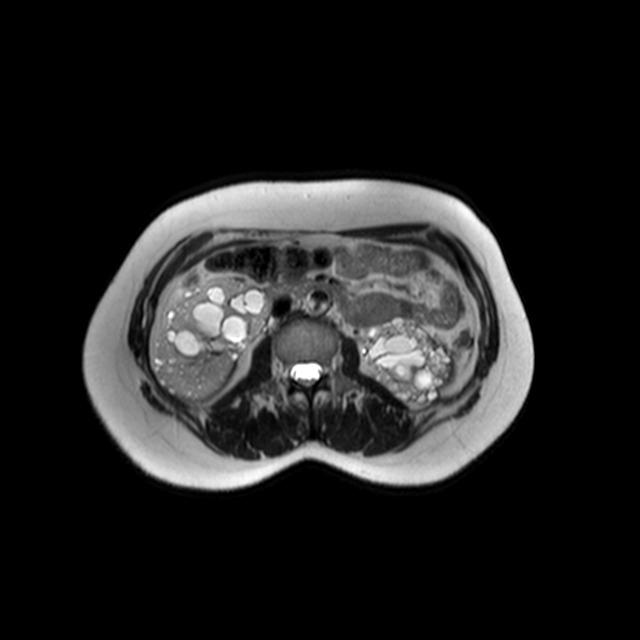sag: (150, 274, 271, 402)
sol: (362, 316, 456, 405)
